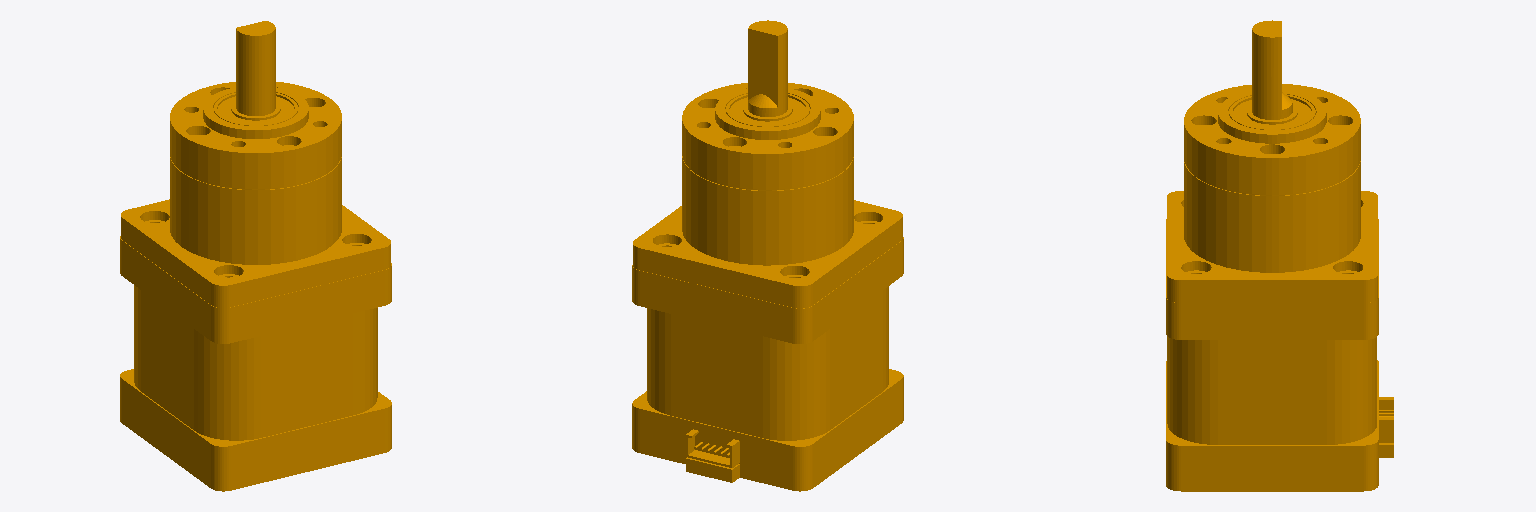
robot.urdf — motor_2_L1.00_T1.00:
<?xml version="1.0" encoding="utf-8"?>
<robot name="motor_2_L1.00_T1.00">
  <link name="motor_2_L1.00_T1.00Link">
    <contact>
      <lateral_friction value="1"/>
    </contact>
    <inertial>
      <origin rpy="0 0 0" xyz="0 0 0"/>
      <mass value="0.0"/>
      <inertia ixx="0" ixy="0" ixz="0" iyy="0" iyz="0" izz="0"/>
    </inertial>
    <visual>
      <origin rpy="0 0 0" xyz="0 0 0"/>
      <geometry>
        <mesh filename="generated_stl/motor/motor_2/motor_2_L1.00_T1.00/motor_2_L1.00_T1.00.stl" scale="0.01 0.01 0.01"/>
      </geometry>
    </visual>
    <collision>
      <origin rpy="0 0 0" xyz="0 0 0"/>
      <geometry>
        <mesh filename="generated_stl/motor/motor_2/motor_2_L1.00_T1.00/motor_2_L1.00_T1.00.stl" scale="0.01 0.01 0.01"/>
      </geometry>
    </collision>
  </link>
</robot>

--- What the picture shows (computed from the rendered views, not written in the file) ---
Views: 3 orthographic renders of the robot side by side, from view 1: azimuth 30°, elevation 25°; view 2: azimuth 150°, elevation 25°; view 3: azimuth 270°, elevation 25°.
Robot: motor_2_L1.00_T1.00 — 1 links, 0 joints (none); root link motor_2_L1.00_T1.00Link; default pose: all joints at 0.
Links seen in each view (by area): view 1: motor_2_L1.00_T1.00Link; view 2: motor_2_L1.00_T1.00Link; view 3: motor_2_L1.00_T1.00Link.
Boxes of the visible links, x1=… form: motor_2_L1.00_T1.00Link: x1=120, y1=21, x2=391, y2=491; motor_2_L1.00_T1.00Link: x1=632, y1=20, x2=903, y2=491; motor_2_L1.00_T1.00Link: x1=1166, y1=20, x2=1393, y2=491.
Bounding box of the posed robot: 0.0336 × 0.036 × 0.0728 m (x, y, z).
Meshes: 1 distinct files referenced, 1 mesh visuals loaded (1 binary STL).